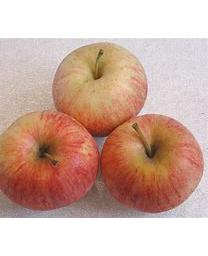apple: (99, 113, 203, 212), (0, 110, 100, 210), (51, 41, 147, 136)
